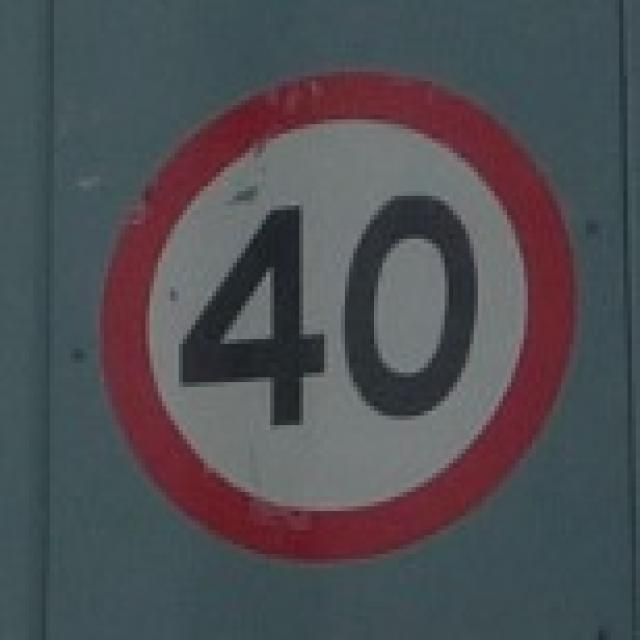Speed Limit -40-: (172, 190, 480, 427)
